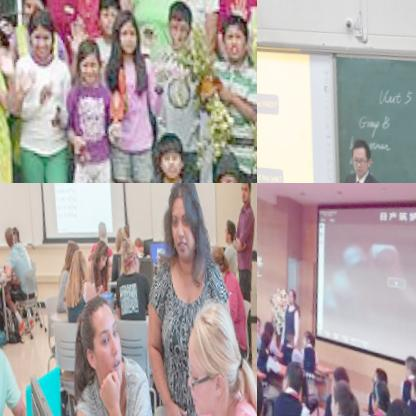head: (169, 292, 252, 416), (64, 290, 125, 394), (154, 183, 209, 270), (140, 124, 184, 182), (209, 7, 244, 62), (17, 5, 53, 58), (104, 9, 141, 57), (65, 36, 101, 84), (201, 146, 242, 183), (158, 0, 190, 45), (317, 379, 355, 416), (271, 357, 300, 401), (114, 234, 141, 278), (343, 138, 371, 179), (89, 0, 119, 34), (205, 243, 228, 285), (368, 393, 408, 416), (359, 362, 385, 397), (360, 378, 383, 416), (65, 247, 87, 285), (87, 238, 109, 273), (59, 236, 79, 271), (397, 373, 416, 408), (12, 0, 41, 21), (394, 350, 414, 380), (217, 219, 236, 247), (109, 221, 126, 252), (92, 221, 110, 246), (292, 326, 310, 351), (275, 323, 293, 348), (129, 231, 144, 255), (235, 183, 252, 204), (0, 224, 13, 251), (7, 224, 20, 246), (279, 287, 292, 306), (257, 317, 269, 337), (257, 329, 265, 354)
